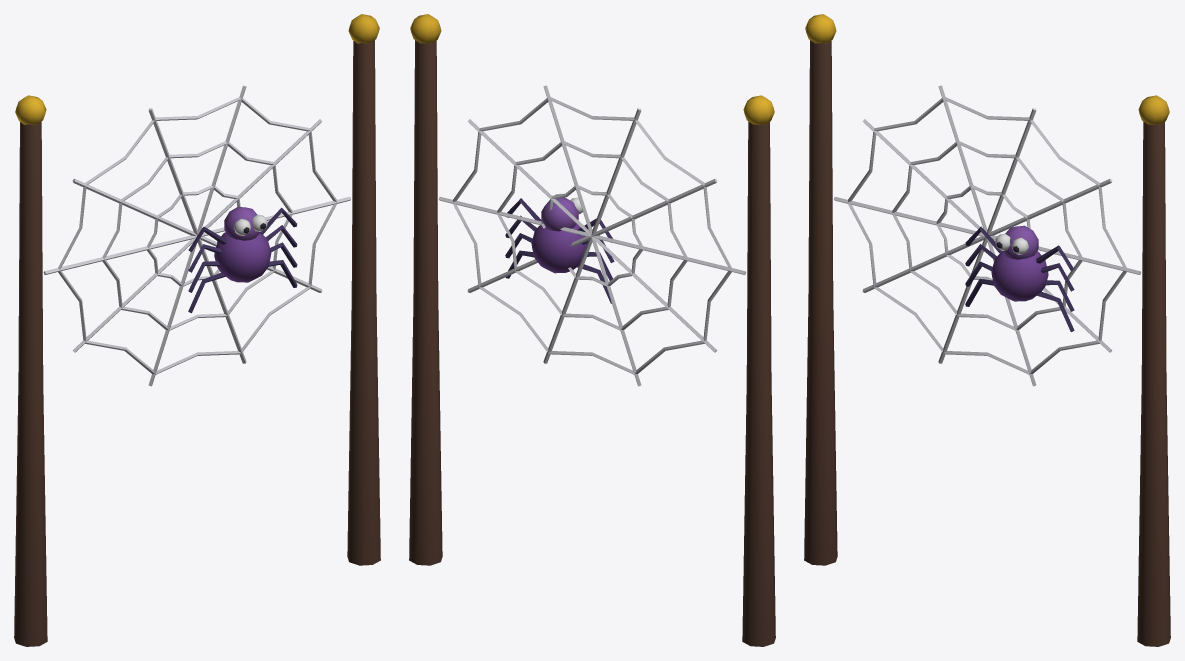
The model's file is fe-web.glb.
The picture shows the model from 3 angles, left to right: view 1: azimuth 30°, elevation 25°; view 2: azimuth 150°, elevation 25°; view 3: azimuth 330°, elevation 25°; orthographic projection.
Visible parts, largest first — view 1: fe-web; view 2: fe-web; view 3: fe-web.
Boxes of the visible parts, box(x1,y1,x2,y2) form: fe-web: box(14, 14, 380, 646); fe-web: box(409, 14, 775, 646); fe-web: box(804, 14, 1170, 646).
Size of the model in its own units: 1.31 by 1.87 by 0.184.
